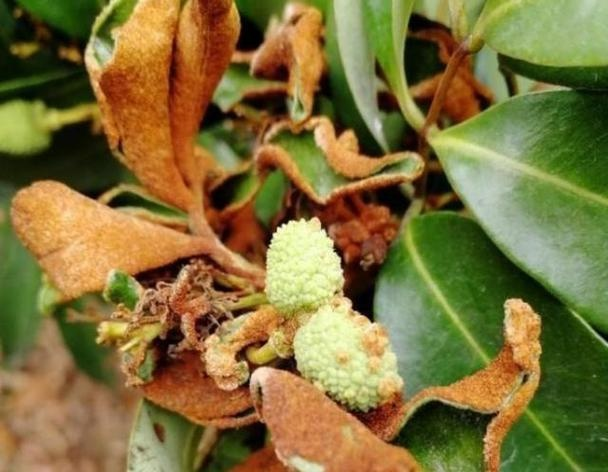Gall_Mite: (257, 296, 579, 472), (22, 221, 264, 423), (104, 10, 328, 210)
